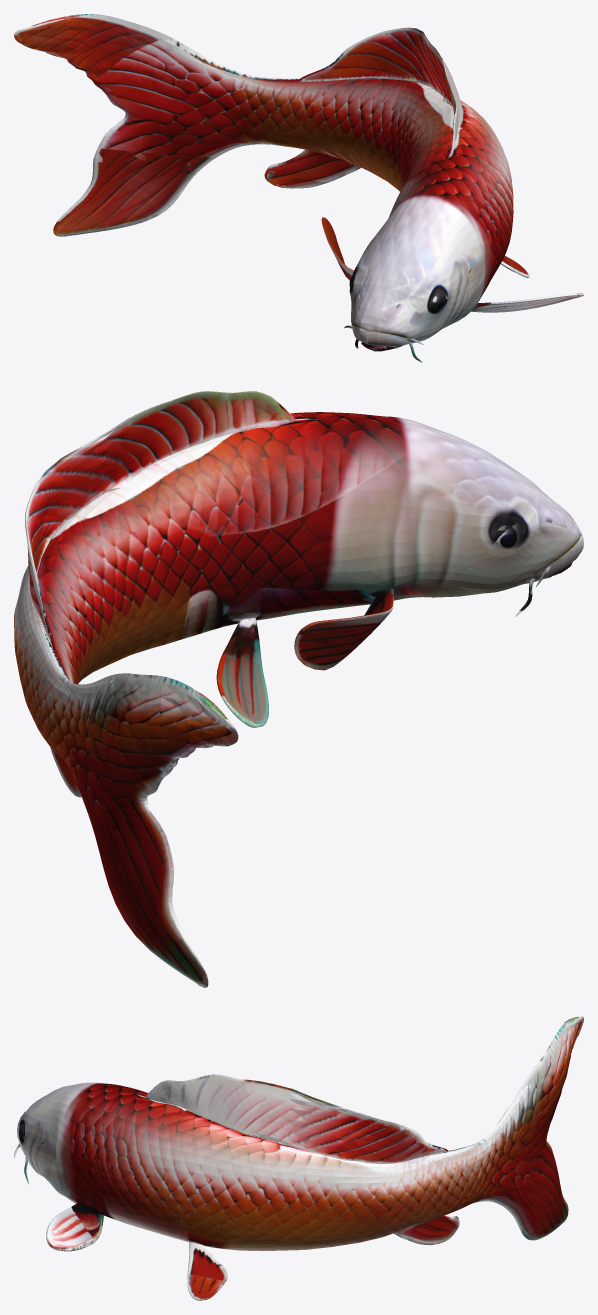
The picture shows the model from 3 angles, top to bottom: view 1: azimuth 30°, elevation 25°; view 2: azimuth 150°, elevation 25°; view 3: azimuth 270°, elevation 25°; orthographic projection. The views are drawn at different scales.
Parts seen in each view (by area): view 1: mvadapter_node_0049_4b5293b9de7f4c3b92417e6a2674d184; view 2: mvadapter_node_0049_4b5293b9de7f4c3b92417e6a2674d184; view 3: mvadapter_node_0049_4b5293b9de7f4c3b92417e6a2674d184.
Part boxes in pixels (x1=…): mvadapter_node_0049_4b5293b9de7f4c3b92417e6a2674d184: x1=14, y1=14, x2=583, y2=362; mvadapter_node_0049_4b5293b9de7f4c3b92417e6a2674d184: x1=14, y1=391, x2=583, y2=987; mvadapter_node_0049_4b5293b9de7f4c3b92417e6a2674d184: x1=14, y1=1016, x2=583, y2=1300.
Bounding box in the file's own units: 0.5639 × 0.4519 × 1.
Materials: 1 (1 with a texture image).
